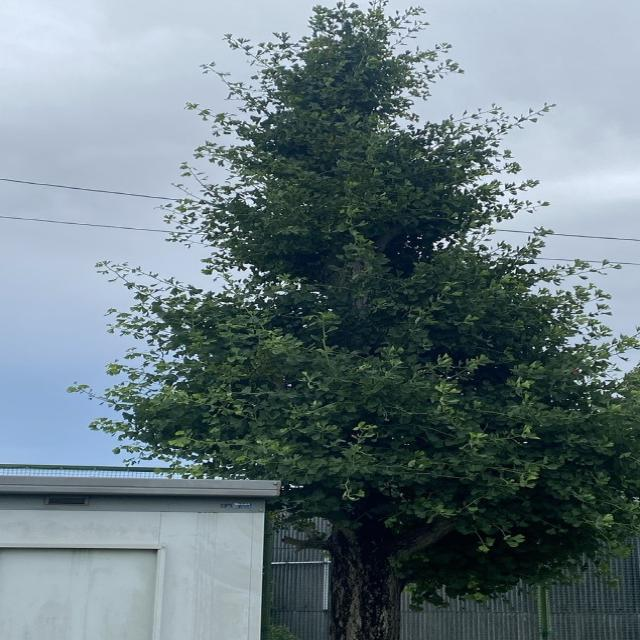ginkgo: (68, 0, 640, 640)
